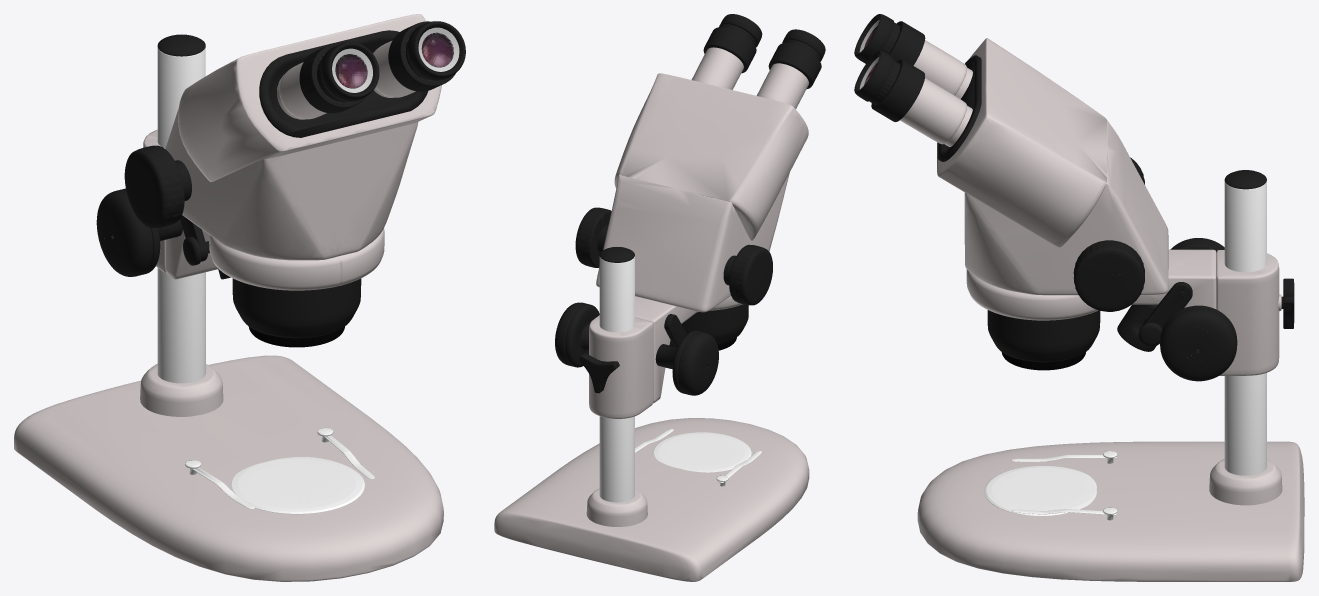
File: mikroskop.glb
3 views of the same model, side by side, from view 1: azimuth 30°, elevation 25°; view 2: azimuth 150°, elevation 25°; view 3: azimuth 270°, elevation 25° (orthographic). The views are drawn at different scales.
Parts seen in each view (by area): view 1: Circle.017_10, Circle.014_9, Circle.001_6, Circle.022_13, Circle.021_12; view 2: Circle.017_10, Circle.014_9, Circle.001_6; view 3: Circle.017_10, Circle.014_9, Circle.001_6.
Part boxes in pixels (box(x1,y1,x2,y2)): Circle.017_10: box(14, 14, 443, 581); Circle.014_9: box(96, 21, 465, 514); Circle.001_6: box(157, 47, 374, 509); Circle.022_13: box(335, 32, 453, 88); Circle.021_12: box(332, 27, 459, 92); Circle.017_10: box(494, 47, 809, 581); Circle.014_9: box(555, 14, 825, 472); Circle.001_6: box(599, 256, 761, 502); Circle.017_10: box(900, 38, 1304, 581); Circle.014_9: box(854, 14, 1294, 515); Circle.001_6: box(1011, 181, 1266, 520).
Bounding box in the file's own units: 0.8168 × 1.55 × 1.29.
Materials: 9 (1 with a texture image).
